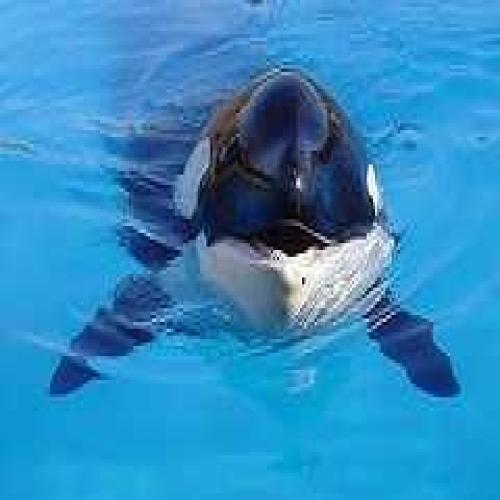killer_whale-endangered: (121, 39, 428, 380)
